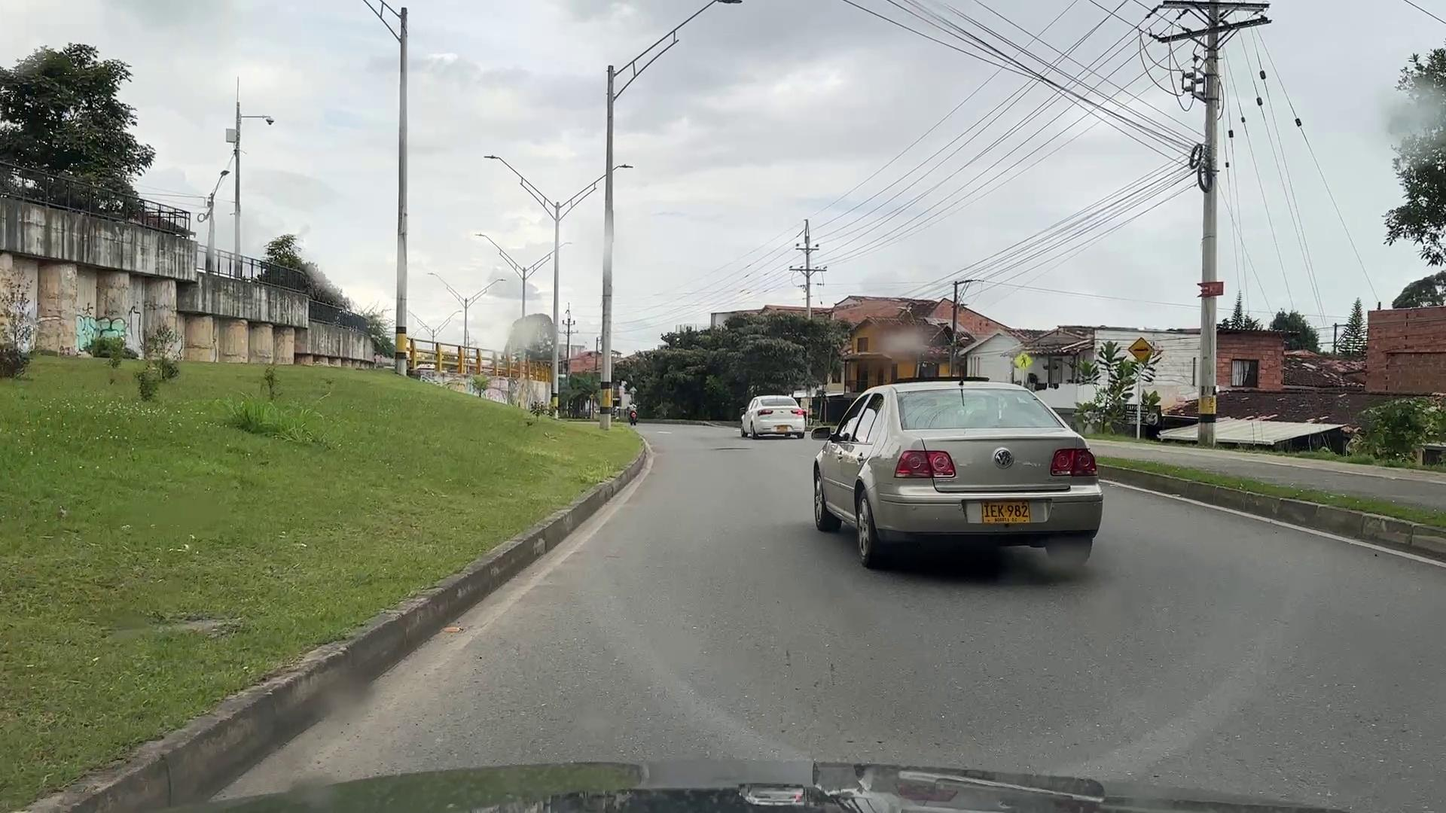bache: (715, 446, 751, 450)
